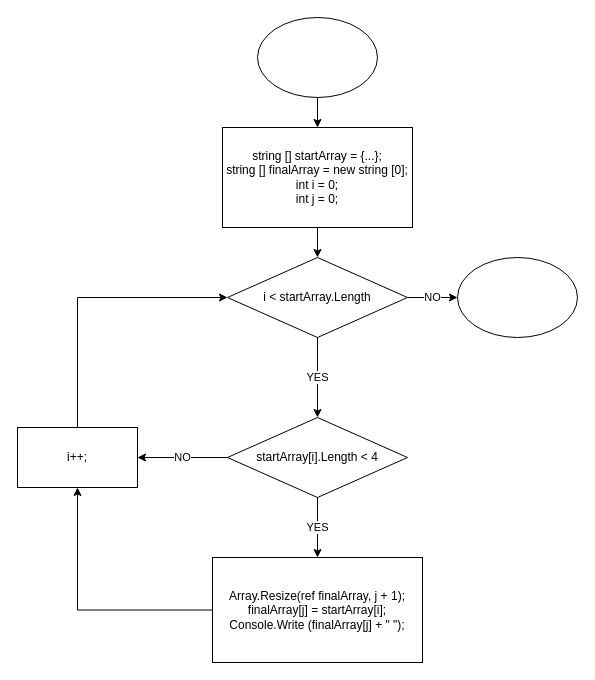
The diagram is 595 pixels wide and 680 high, and some of its shapes have lost their labels. Each missing label, with the box of its shape:
END: (456, 256, 578, 338)
START: (256, 16, 378, 98)
